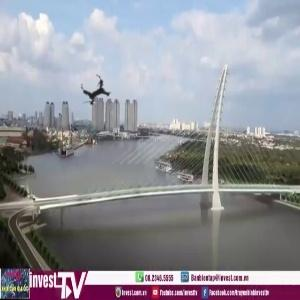drone: (67, 65, 125, 123)
